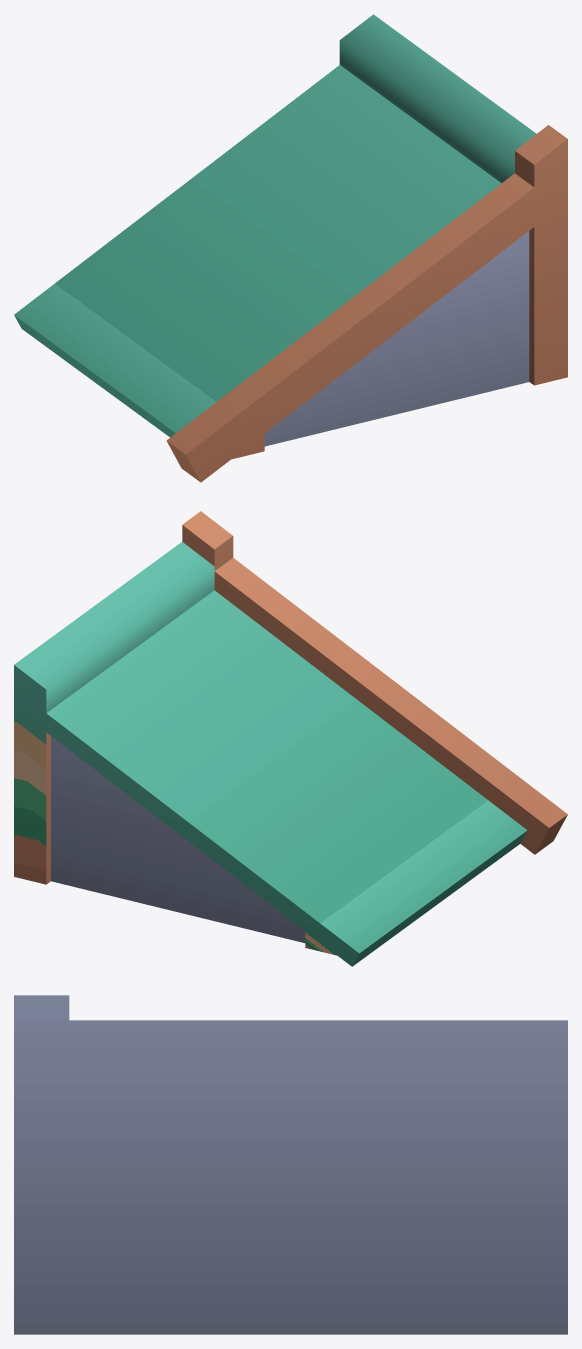
The model's file is roof-right.glb.
3 renders of one model, top to bottom at view 1: azimuth 30°, elevation 25°; view 2: azimuth 150°, elevation 25°; view 3: azimuth 270°, elevation 25°, orthographic. The views are drawn at different scales.
Parts seen in each view (by area): view 1: roof-right; view 2: roof-right; view 3: roof-right.
Boxes of the visible parts, x1=… form: roof-right: x1=14, y1=14, x2=567, y2=482; roof-right: x1=14, y1=511, x2=567, y2=966; roof-right: x1=14, y1=995, x2=567, y2=1334.
Size of the model in its own units: 1.13 by 0.7206 by 1.
1 material, 1 textured.
